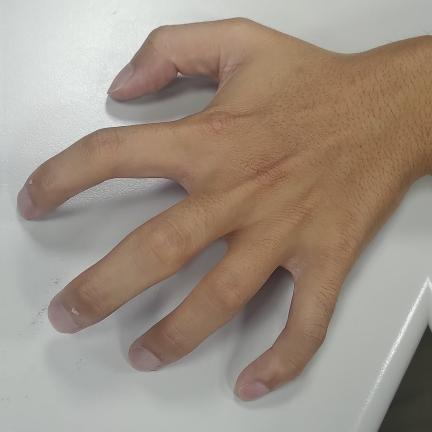Nail: (46, 300, 82, 334), (128, 342, 161, 372), (106, 63, 133, 94), (237, 382, 269, 402), (16, 187, 33, 220)
